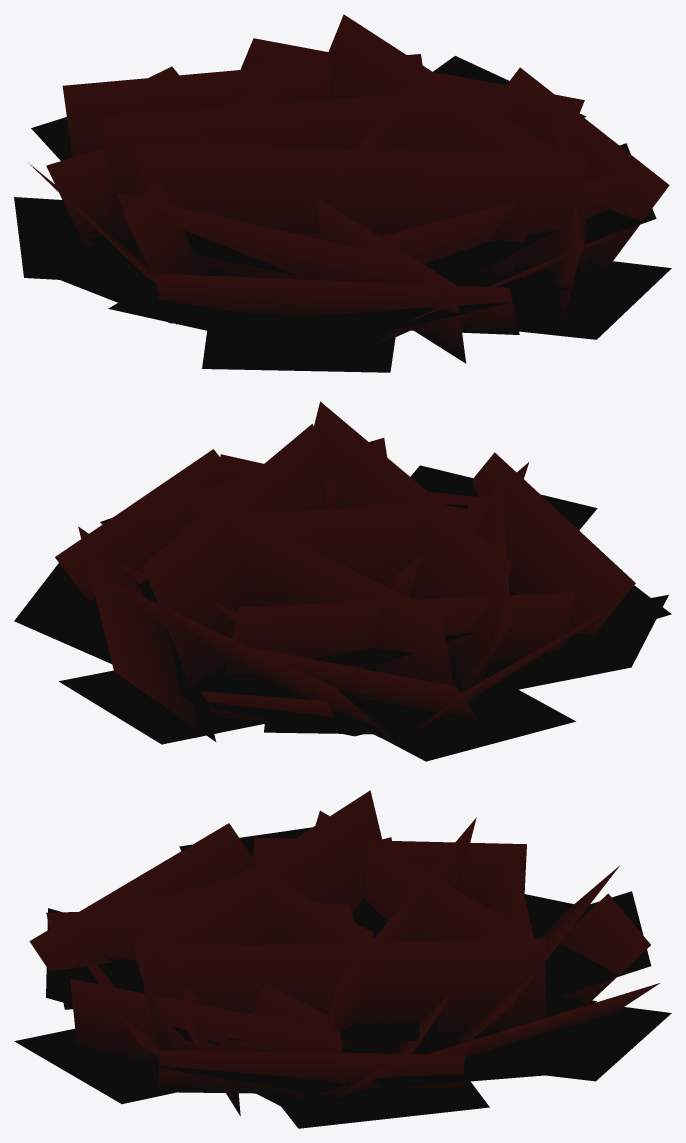
Rendered from TFD_Grass_Patch_01A.fbx.
3 renders of one model, top to bottom at view 1: azimuth 30°, elevation 25°; view 2: azimuth 150°, elevation 25°; view 3: azimuth 270°, elevation 25°, orthographic. The views are drawn at different scales.
Visible parts, largest first — view 1: TFD_Grass_Patch_01A_LOD0; view 2: TFD_Grass_Patch_01A_LOD0; view 3: TFD_Grass_Patch_01A_LOD0.
Boxes of the visible parts, <box> form: TFD_Grass_Patch_01A_LOD0: <box>14,14,671,372</box>; TFD_Grass_Patch_01A_LOD0: <box>14,401,671,761</box>; TFD_Grass_Patch_01A_LOD0: <box>14,790,671,1128</box>.
Size of the model in its own units: 264 by 63.16 by 268.
